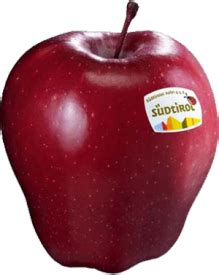apple: (2, 19, 218, 275)
